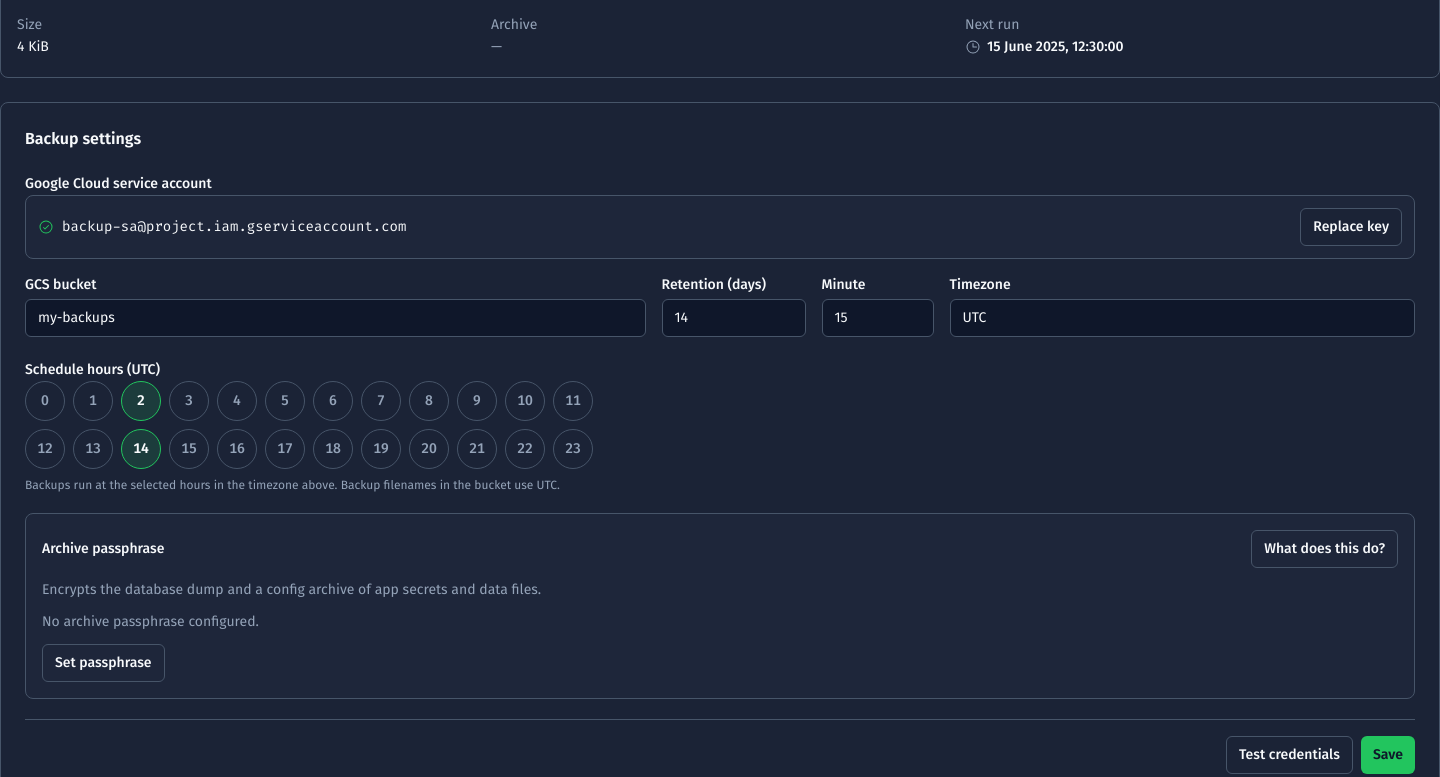
Test: BackupsPage › rejects a short archive passphrase before saving
(page scrolled)
Click the button "Set passphrase". click: (103, 663)
box: [42,644,165,682]
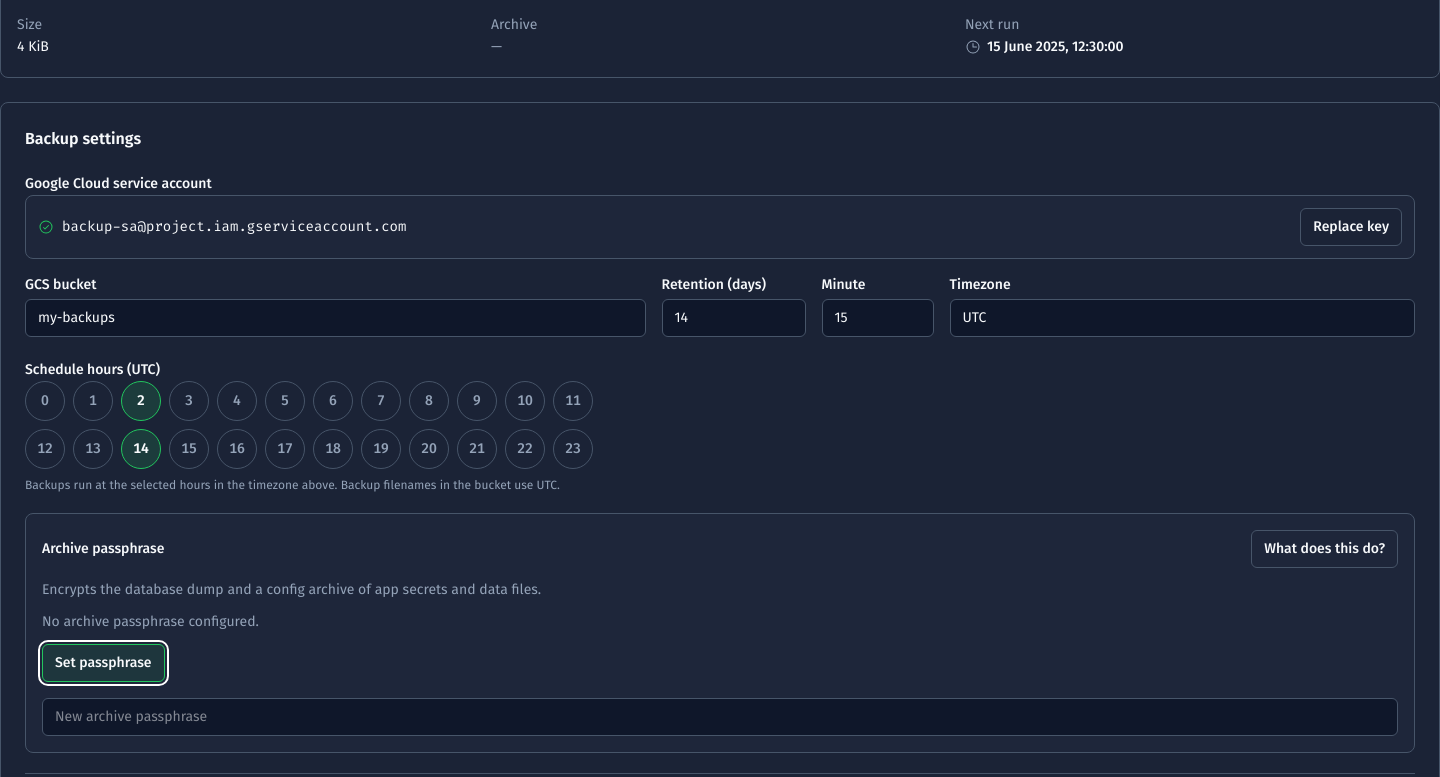
Type "short" into the password field labelled "New archive passphrase". click: (720, 717)
box: [42,698,1398,736]
(page scrolled)
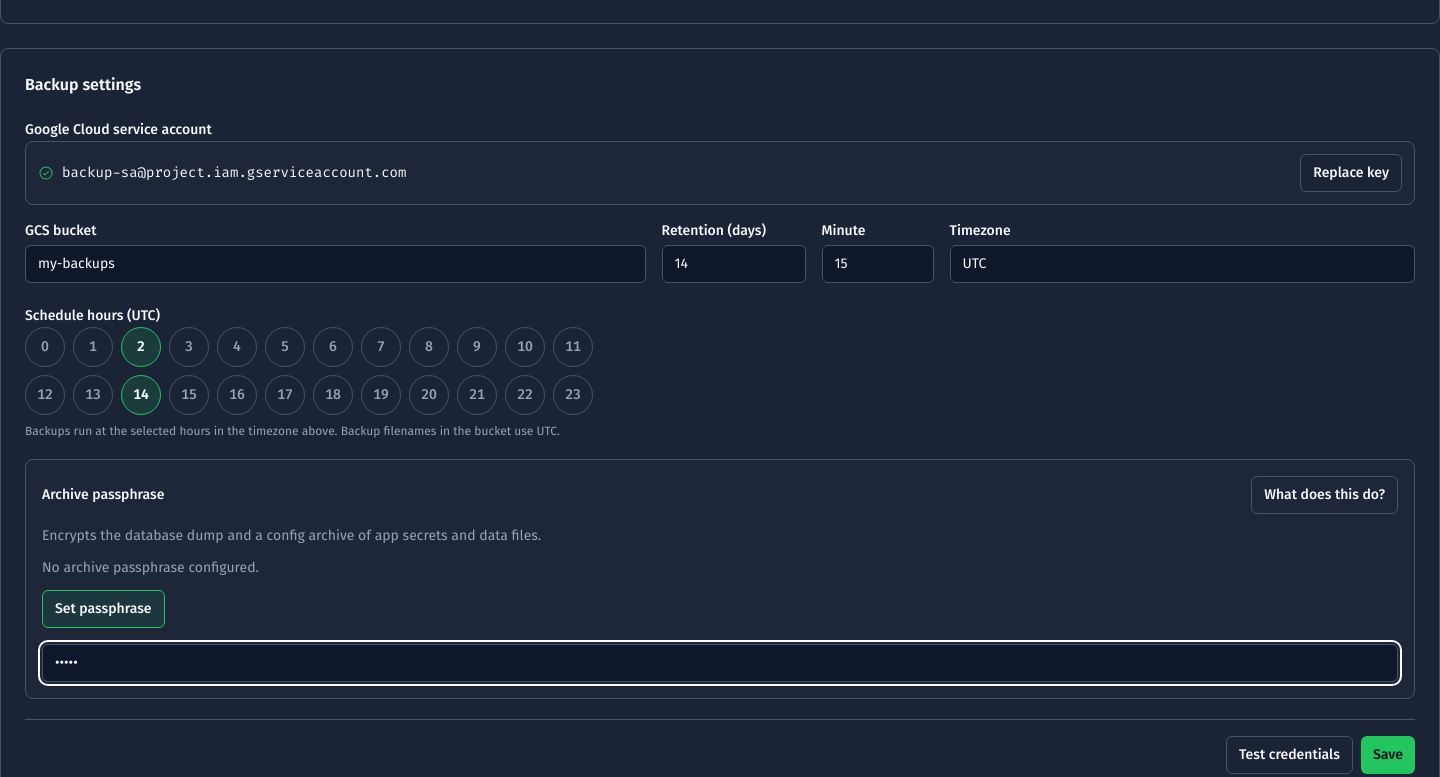
Click the button "Save". click: (1388, 755)
box: [1361,736,1415,774]
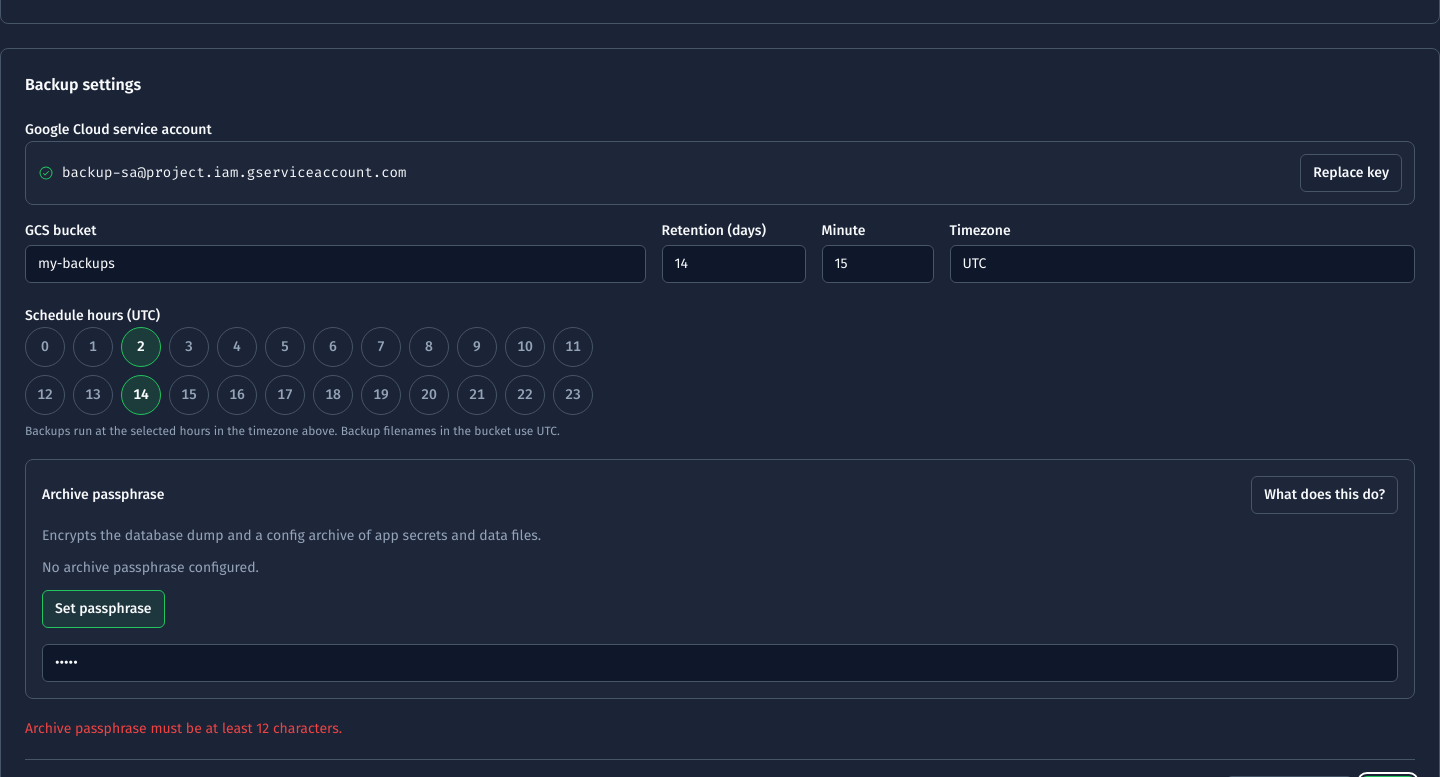
Now the text "Archive passphrase must be at least 12 characters." is shown, box [25,720,342,737]
